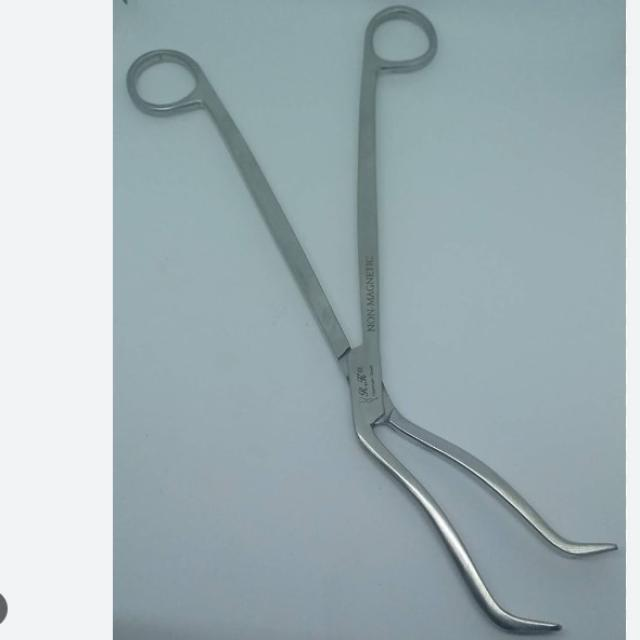Cheatle Forceps: (127, 6, 623, 637)
